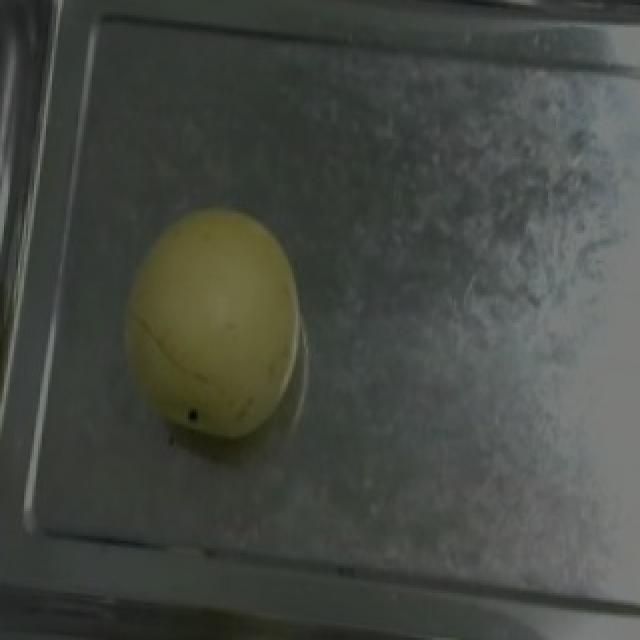Fruit: (96, 191, 318, 456)
